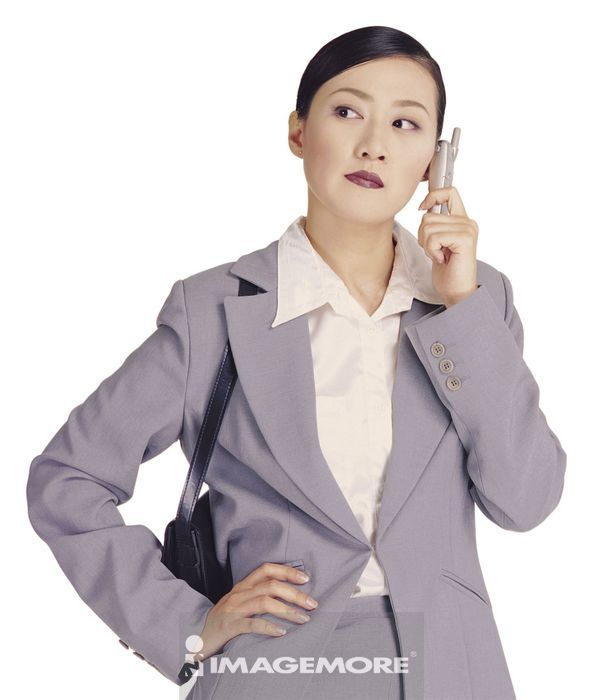talk: (321, 82, 482, 303)
